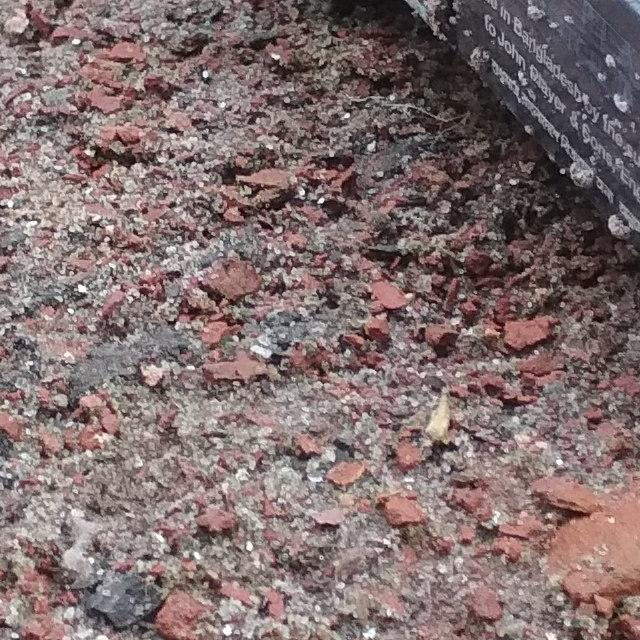paper: (100, 0, 640, 583)
